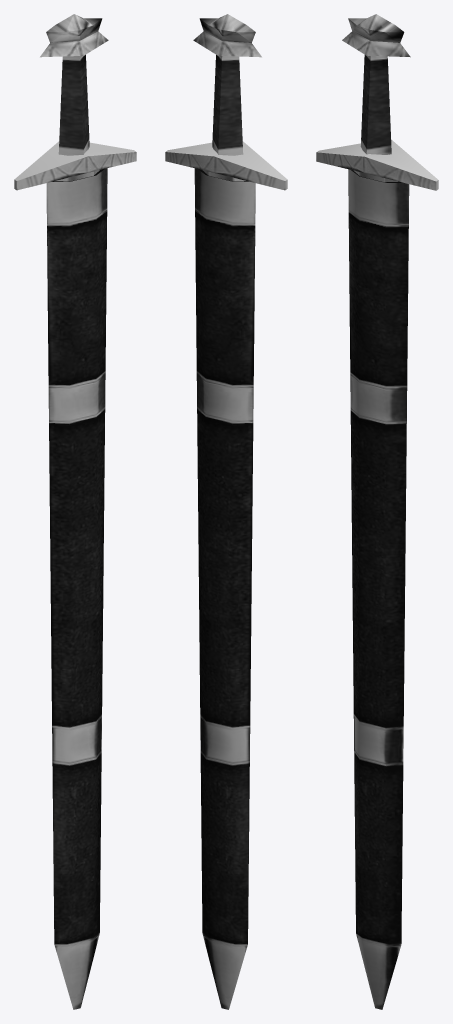
Rendered from Sword and Scabbard_LOD02.fbx.
The picture shows the model from 3 angles, left to right: view 1: azimuth 30°, elevation 25°; view 2: azimuth 150°, elevation 25°; view 3: azimuth 330°, elevation 25°; orthographic projection.
Visible parts, largest first — view 1: Mesh Object; view 2: Mesh Object; view 3: Mesh Object.
Boxes of the visible parts, left/top/right/bottom form: Mesh Object: left=14, top=14, right=136, bottom=1009; Mesh Object: left=165, top=14, right=287, bottom=1009; Mesh Object: left=316, top=14, right=438, bottom=1009.
Bounding box in the file's own units: 0.132 × 1.05 × 0.0481.
